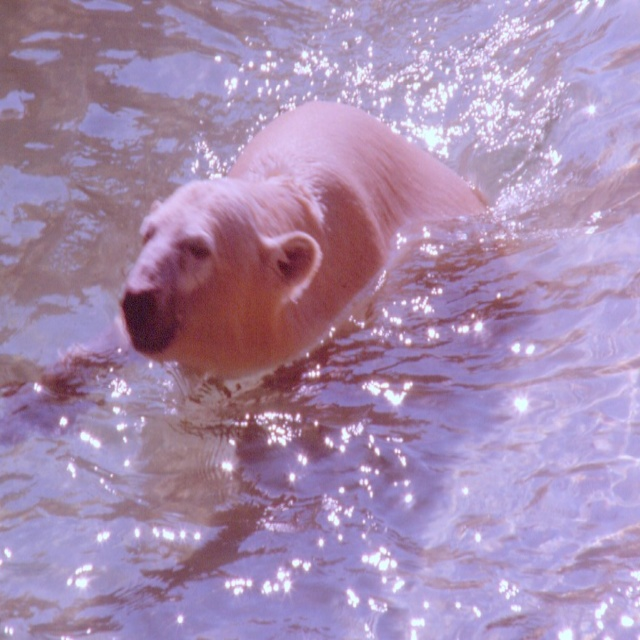Polar bear: (0, 95, 486, 421)
